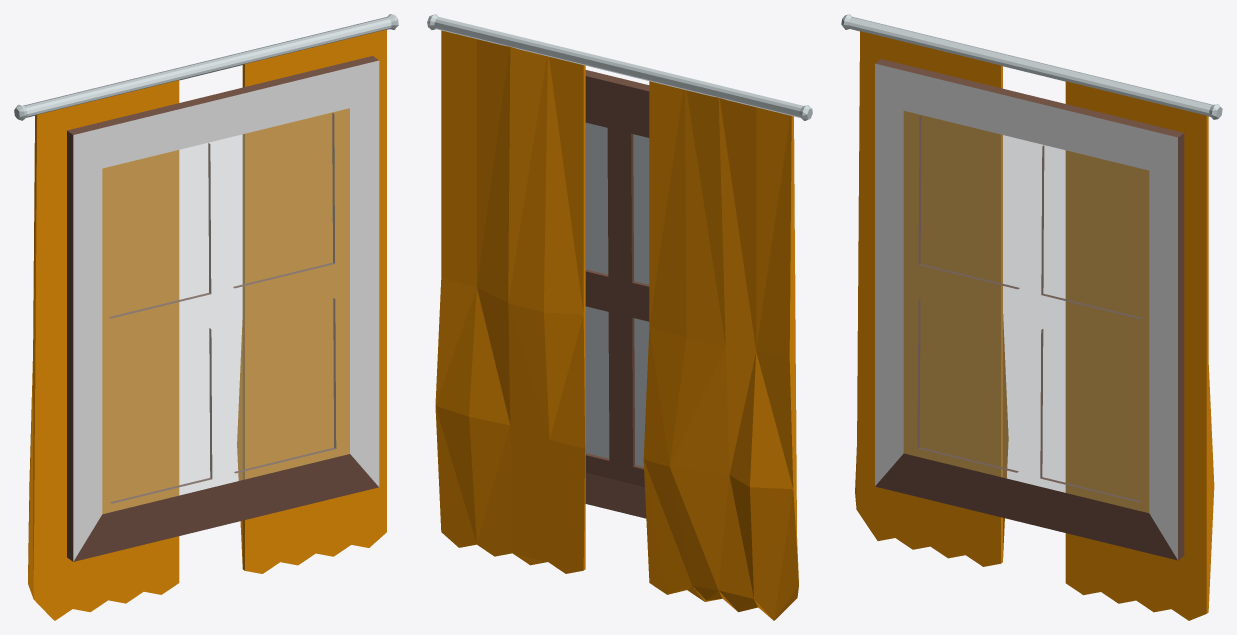
Rendered from window.glb.
3 views of the same model, side by side, from view 1: azimuth 30°, elevation 25°; view 2: azimuth 150°, elevation 25°; view 3: azimuth 330°, elevation 25° (orthographic).
Visible parts, largest first — view 1: group277737901, group1192423041, group1329612974, group2033790762; view 2: group1192423041, group1329612974, group277737901, group2033790762; view 3: group277737901, group1192423041, group1329612974, group2033790762.
Part boxes in pixels (left/top/right/bottom): group277737901: left=67, top=56, right=379, bottom=561; group1192423041: left=28, top=80, right=179, bottom=620; group1329612974: left=237, top=29, right=386, bottom=573; group2033790762: left=14, top=14, right=398, bottom=120; group1192423041: left=643, top=81, right=798, bottom=620; group1329612974: left=435, top=30, right=585, bottom=573; group277737901: left=585, top=70, right=649, bottom=518; group2033790762: left=427, top=14, right=812, bottom=120; group277737901: left=875, top=59, right=1184, bottom=560; group1192423041: left=855, top=31, right=1008, bottom=566; group1329612974: left=1065, top=81, right=1214, bottom=620; group2033790762: left=841, top=14, right=1222, bottom=119.
Size of the model in its own units: 1.04 by 1.38 by 0.09.
